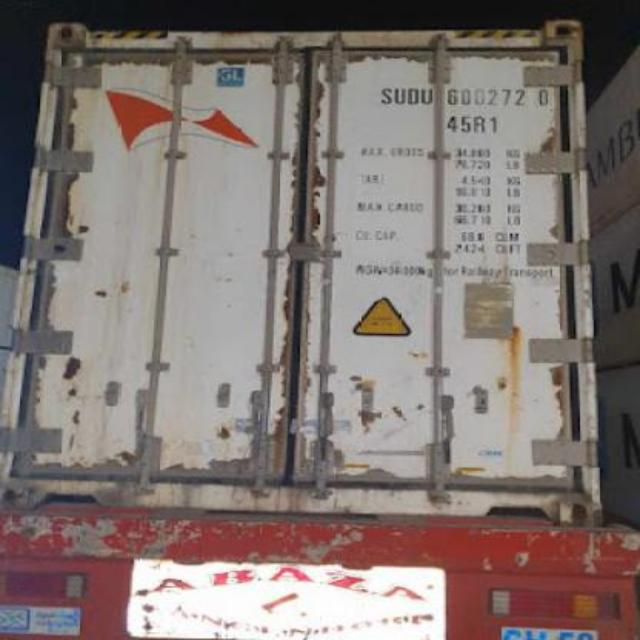0: (534, 84, 556, 108), (458, 80, 472, 108), (472, 82, 486, 105)
2: (488, 82, 498, 108), (514, 82, 524, 108)
6: (442, 82, 458, 108)
7: (500, 75, 512, 108)
D: (406, 80, 419, 110)
S: (374, 82, 392, 108)
U: (421, 78, 434, 112), (392, 82, 406, 108)
